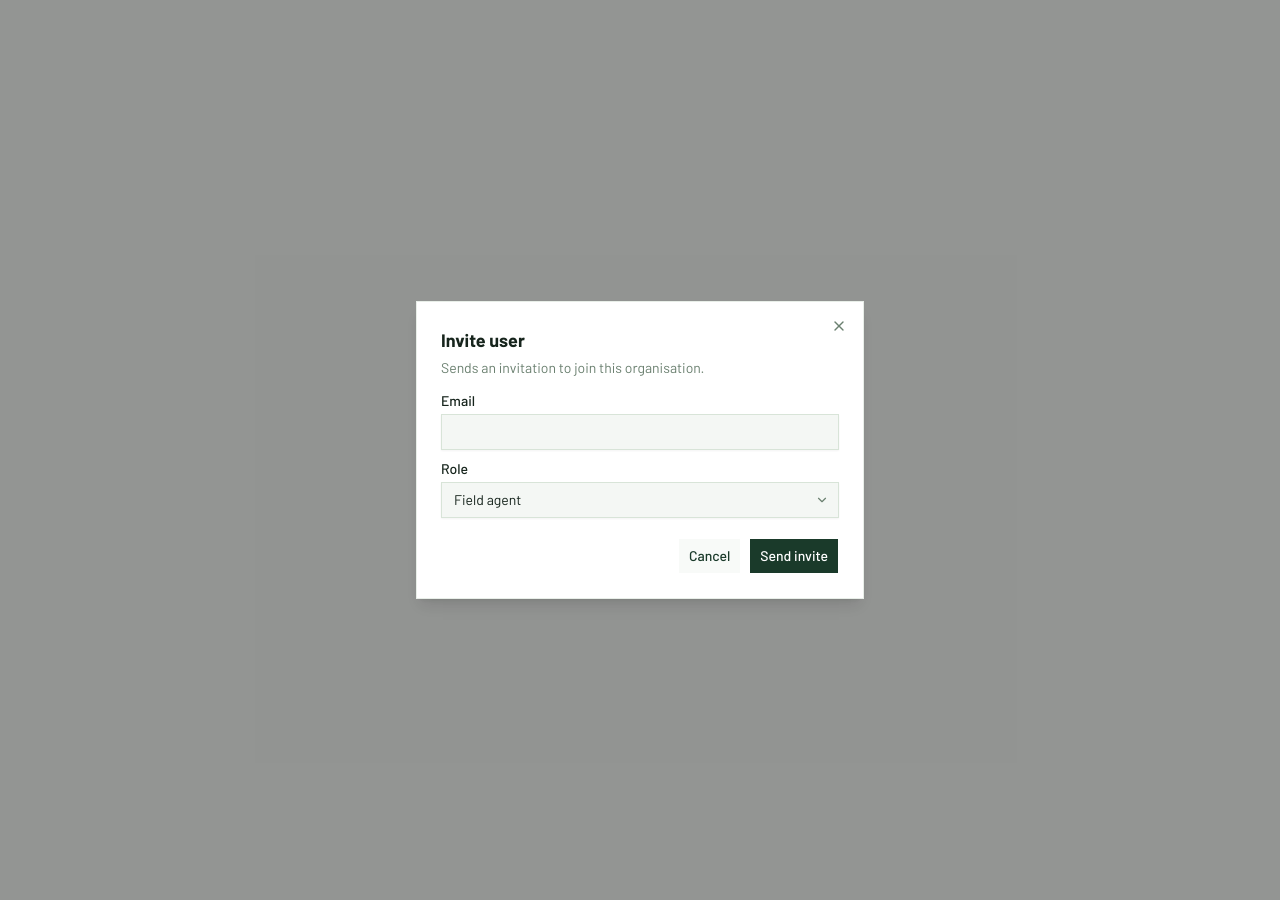
Test: UserInviteDialog › shows the temporary password for a newly created user
The image size is (1280, 900).
Type "new@verafi.com" into the field labelled "Email" at coordinates (640, 432), box [441,414,839,450]
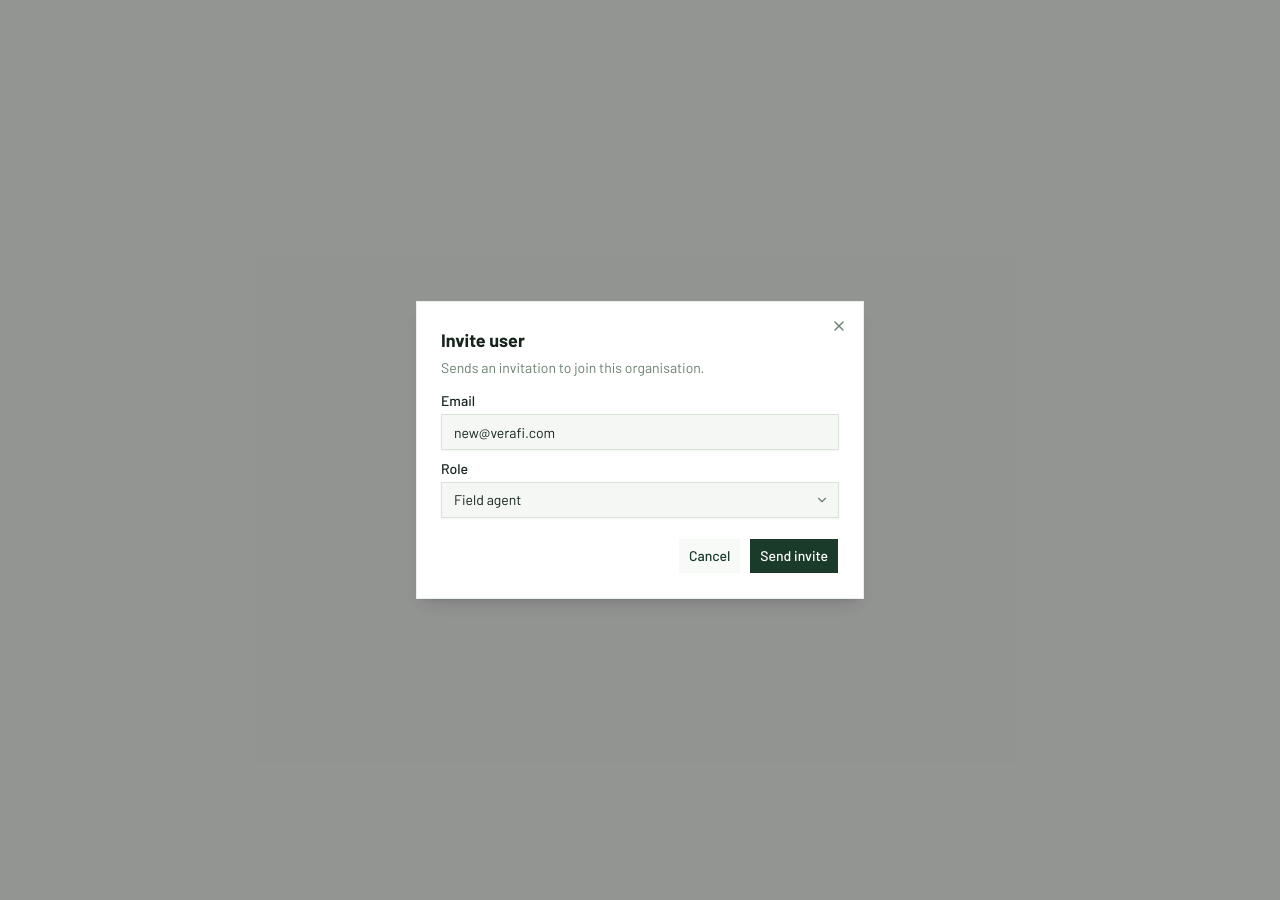
Click the button "Send invite" at coordinates (794, 556), box [749,538,839,574]
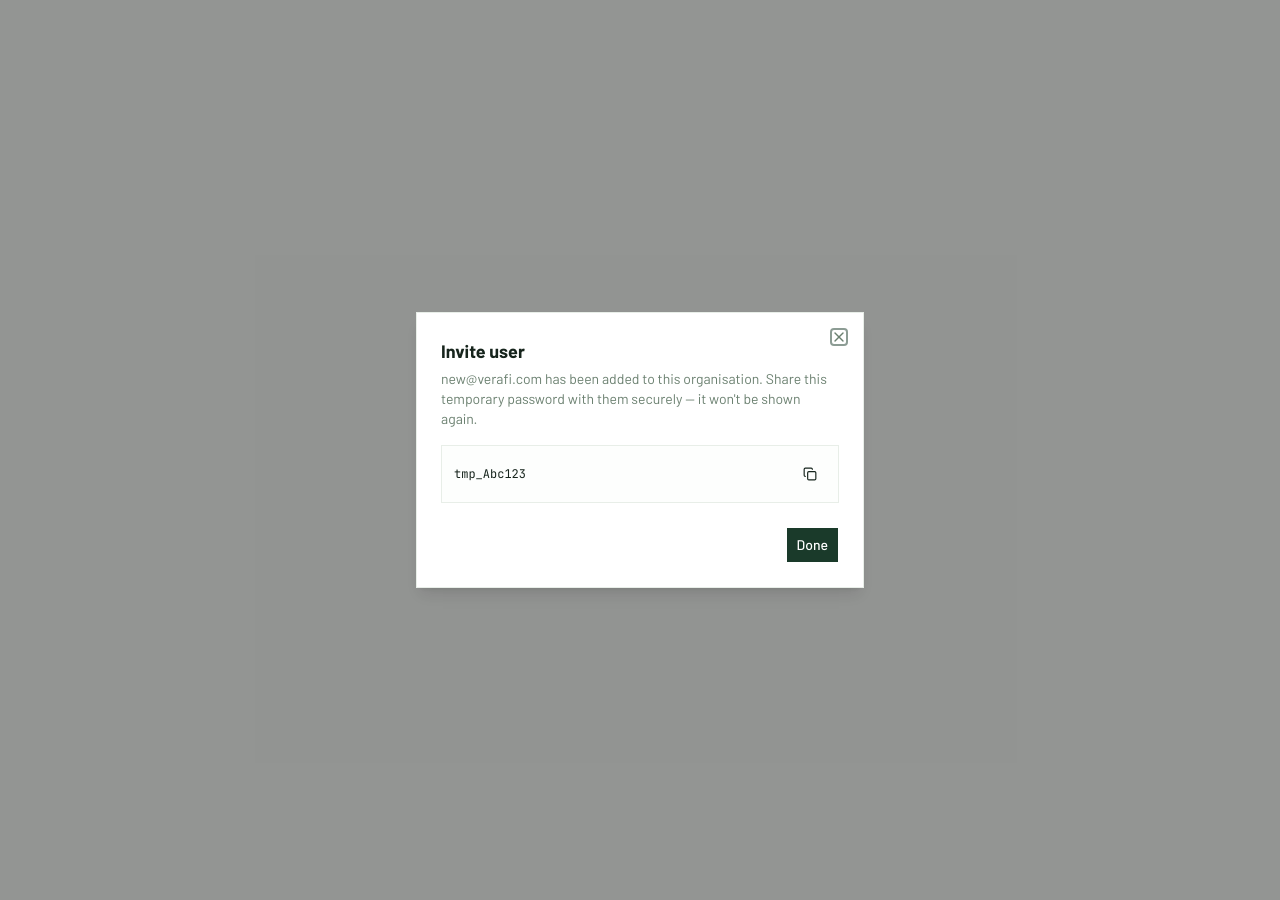
Expected: the text "tmp_Abc123" is shown, [454,466,526,482]
